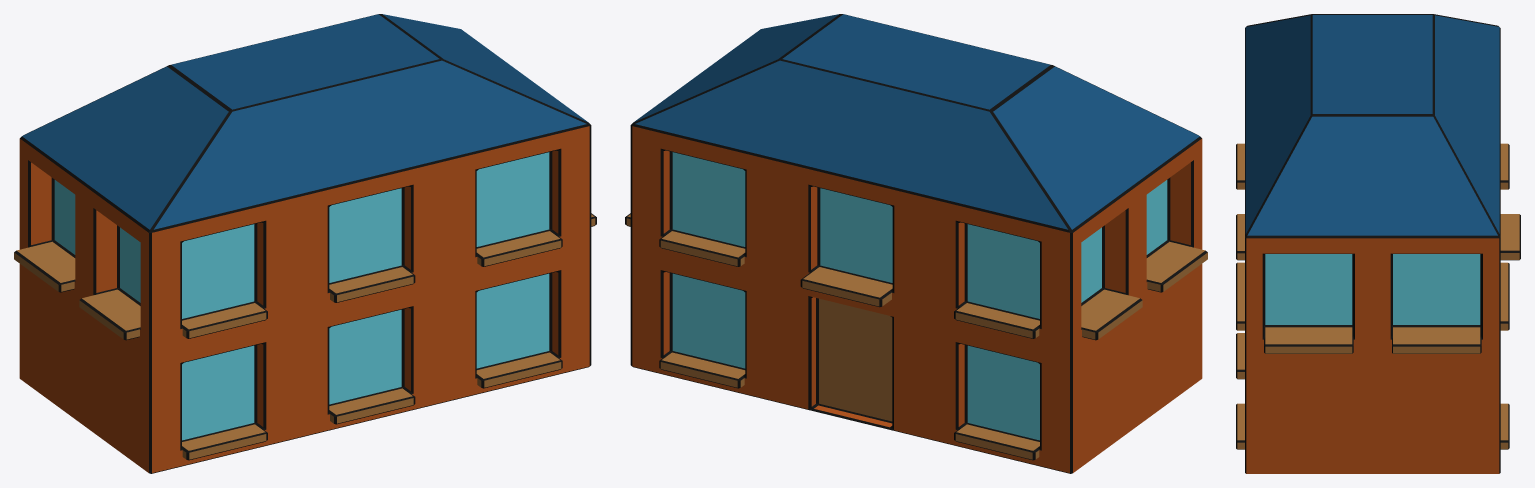
Rendered from BigHouse3.fbx.
The picture shows the model from 3 angles, left to right: view 1: azimuth 30°, elevation 25°; view 2: azimuth 150°, elevation 25°; view 3: azimuth 270°, elevation 25°; orthographic projection. The views are drawn at different scales.
Visible parts, largest first — view 1: Cube.018; view 2: Cube.018; view 3: Cube.018.
Part boxes in pixels (x1,y1,x2,y2): Cube.018: [14, 14, 596, 473]; Cube.018: [625, 14, 1207, 473]; Cube.018: [1236, 14, 1520, 473].
Bounding box in the file's own units: 5.83 × 3.66 × 3.1.
